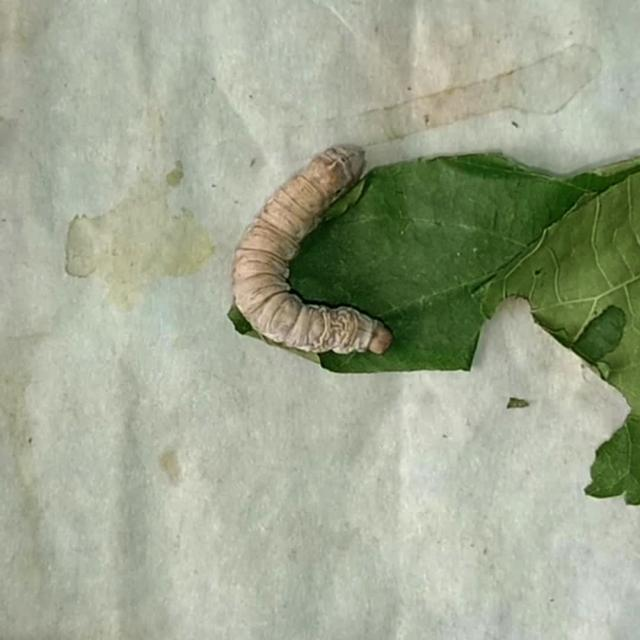Grasserie: (218, 116, 418, 391)
